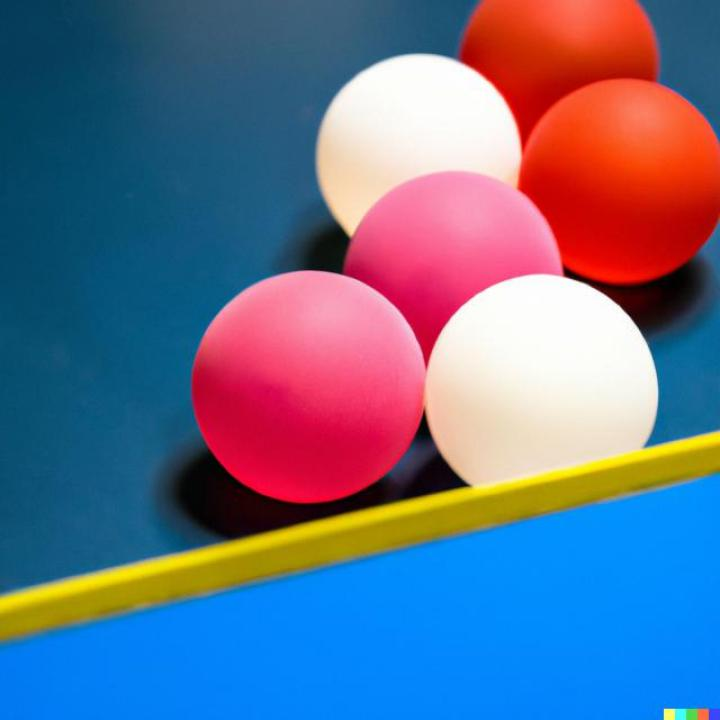white: (426, 274, 660, 492), (316, 54, 523, 238)
